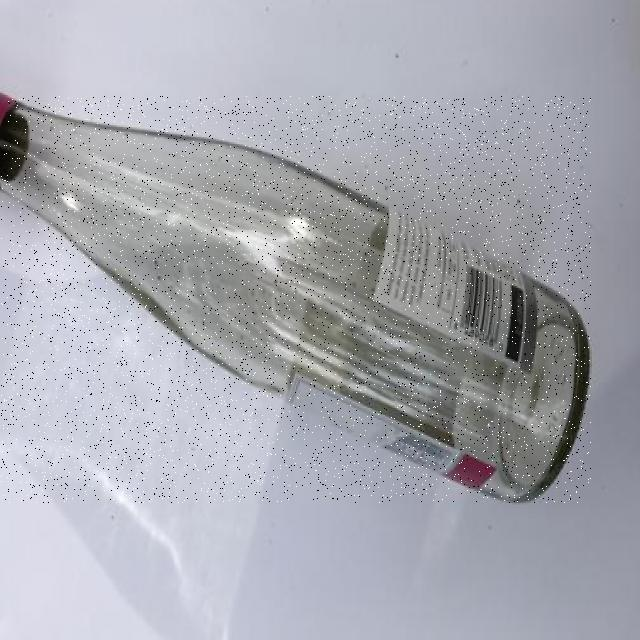glass: (2, 96, 591, 503)
